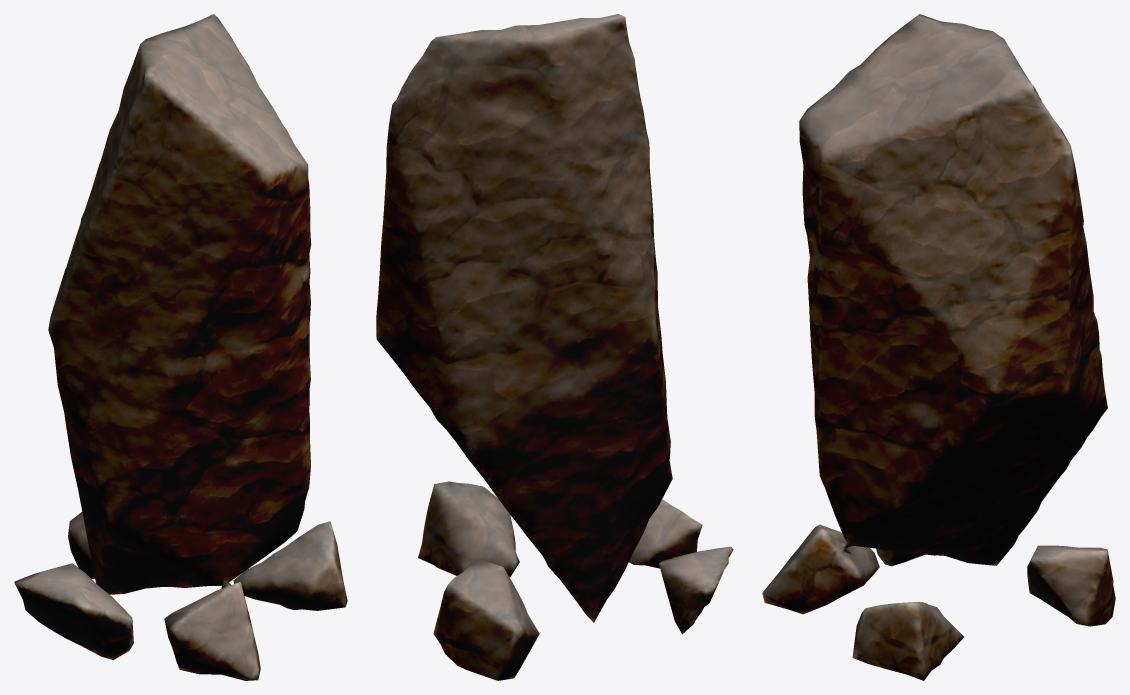
File: boulder_tall.glb
The picture shows the model from 3 angles, left to right: view 1: azimuth 30°, elevation 25°; view 2: azimuth 150°, elevation 25°; view 3: azimuth 270°, elevation 25°; orthographic projection. The views are drawn at different scales.
Visible parts, largest first — view 1: rock; view 2: rock; view 3: rock.
Part boxes in pixels (x1=…): rock: x1=14, y1=14, x2=347, y2=680; rock: x1=376, y1=14, x2=733, y2=680; rock: x1=762, y1=14, x2=1115, y2=680.
Bounding box in the file's own units: 0.8215 × 1.49 × 0.8158.
Materials: 1 (1 with a texture image).
